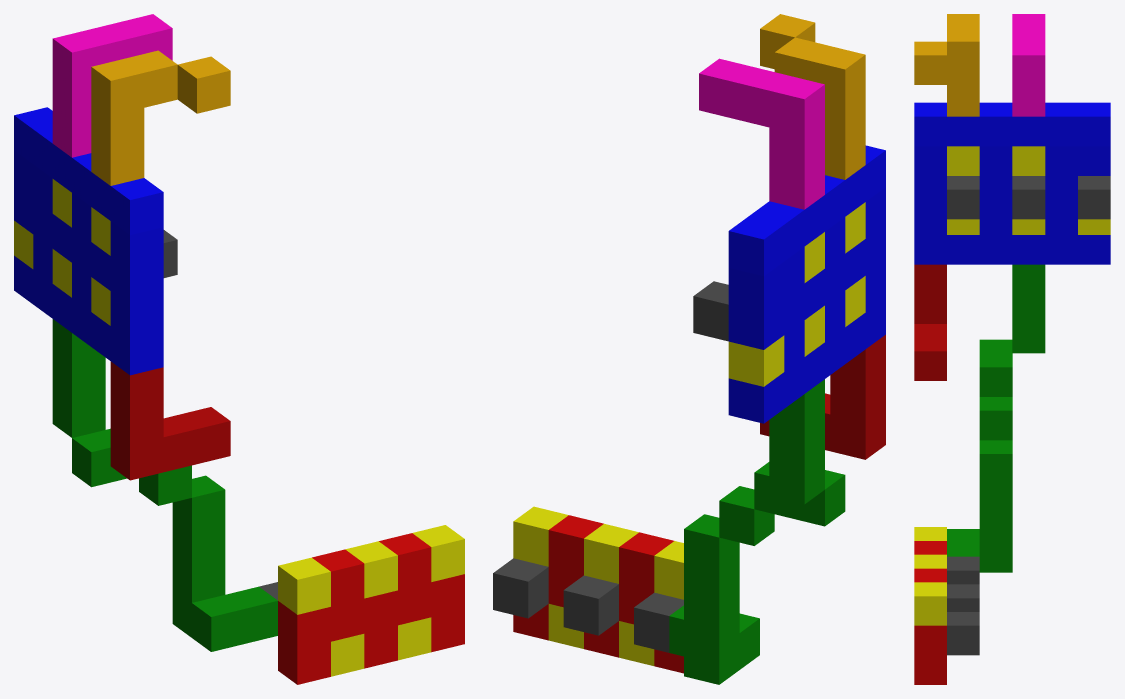
Rendered from specs_6core16gb.glb.
3 renders of one model, left to right at view 1: azimuth 30°, elevation 25°; view 2: azimuth 150°, elevation 25°; view 3: azimuth 270°, elevation 25°, orthographic. The views are drawn at different scales.
Parts seen in each view (by area): view 1: model_0; view 2: model_0; view 3: model_0.
Boxes of the visible parts, x1,y1,x2,y2 form: model_0: (14, 14, 464, 684); model_0: (493, 14, 885, 684); model_0: (914, 14, 1110, 684).
Size of the model in its own units: 10 by 18 by 6.
